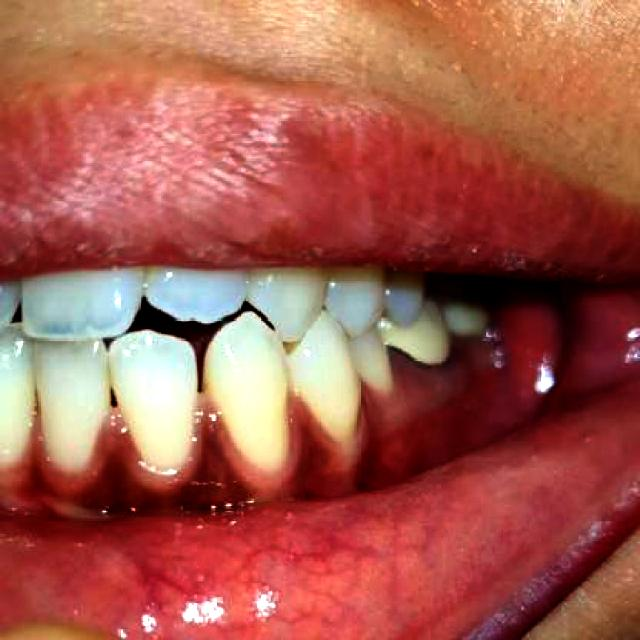Plaque: (263, 326, 529, 504), (4, 391, 261, 523)
